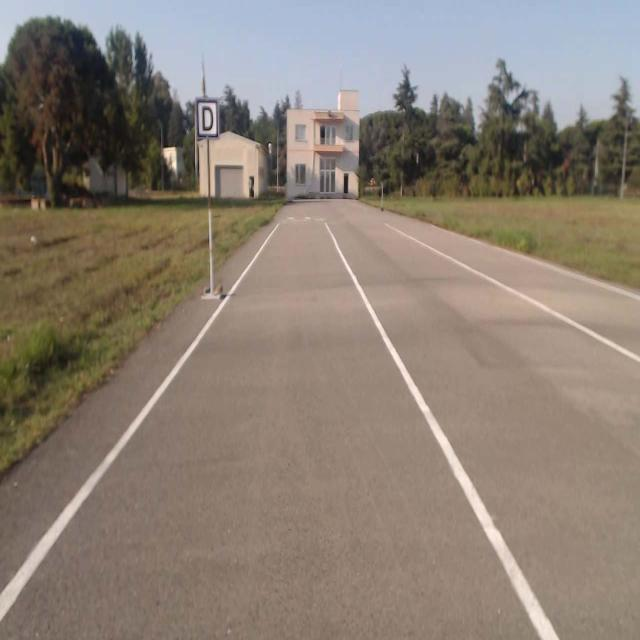durak: (196, 98, 218, 138)
